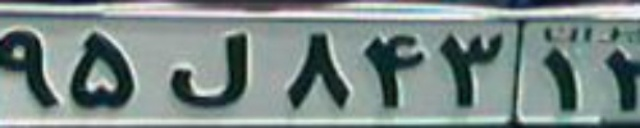1: (541, 49, 580, 110)
2: (603, 49, 639, 111)
3: (437, 33, 507, 109)
4: (364, 33, 427, 108)
5: (69, 29, 141, 106)
8: (287, 31, 349, 108)
9: (1, 27, 58, 109)
lam: (167, 31, 248, 106)
